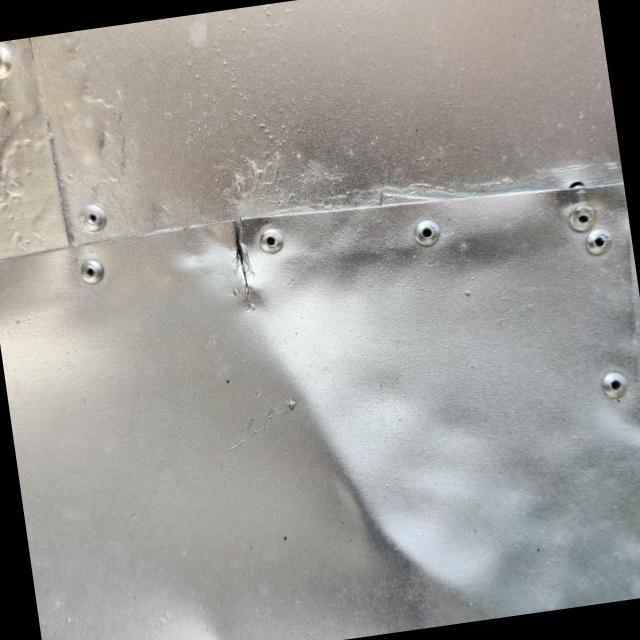Dent: (243, 308, 521, 640)
Rupture: (201, 200, 278, 324)
